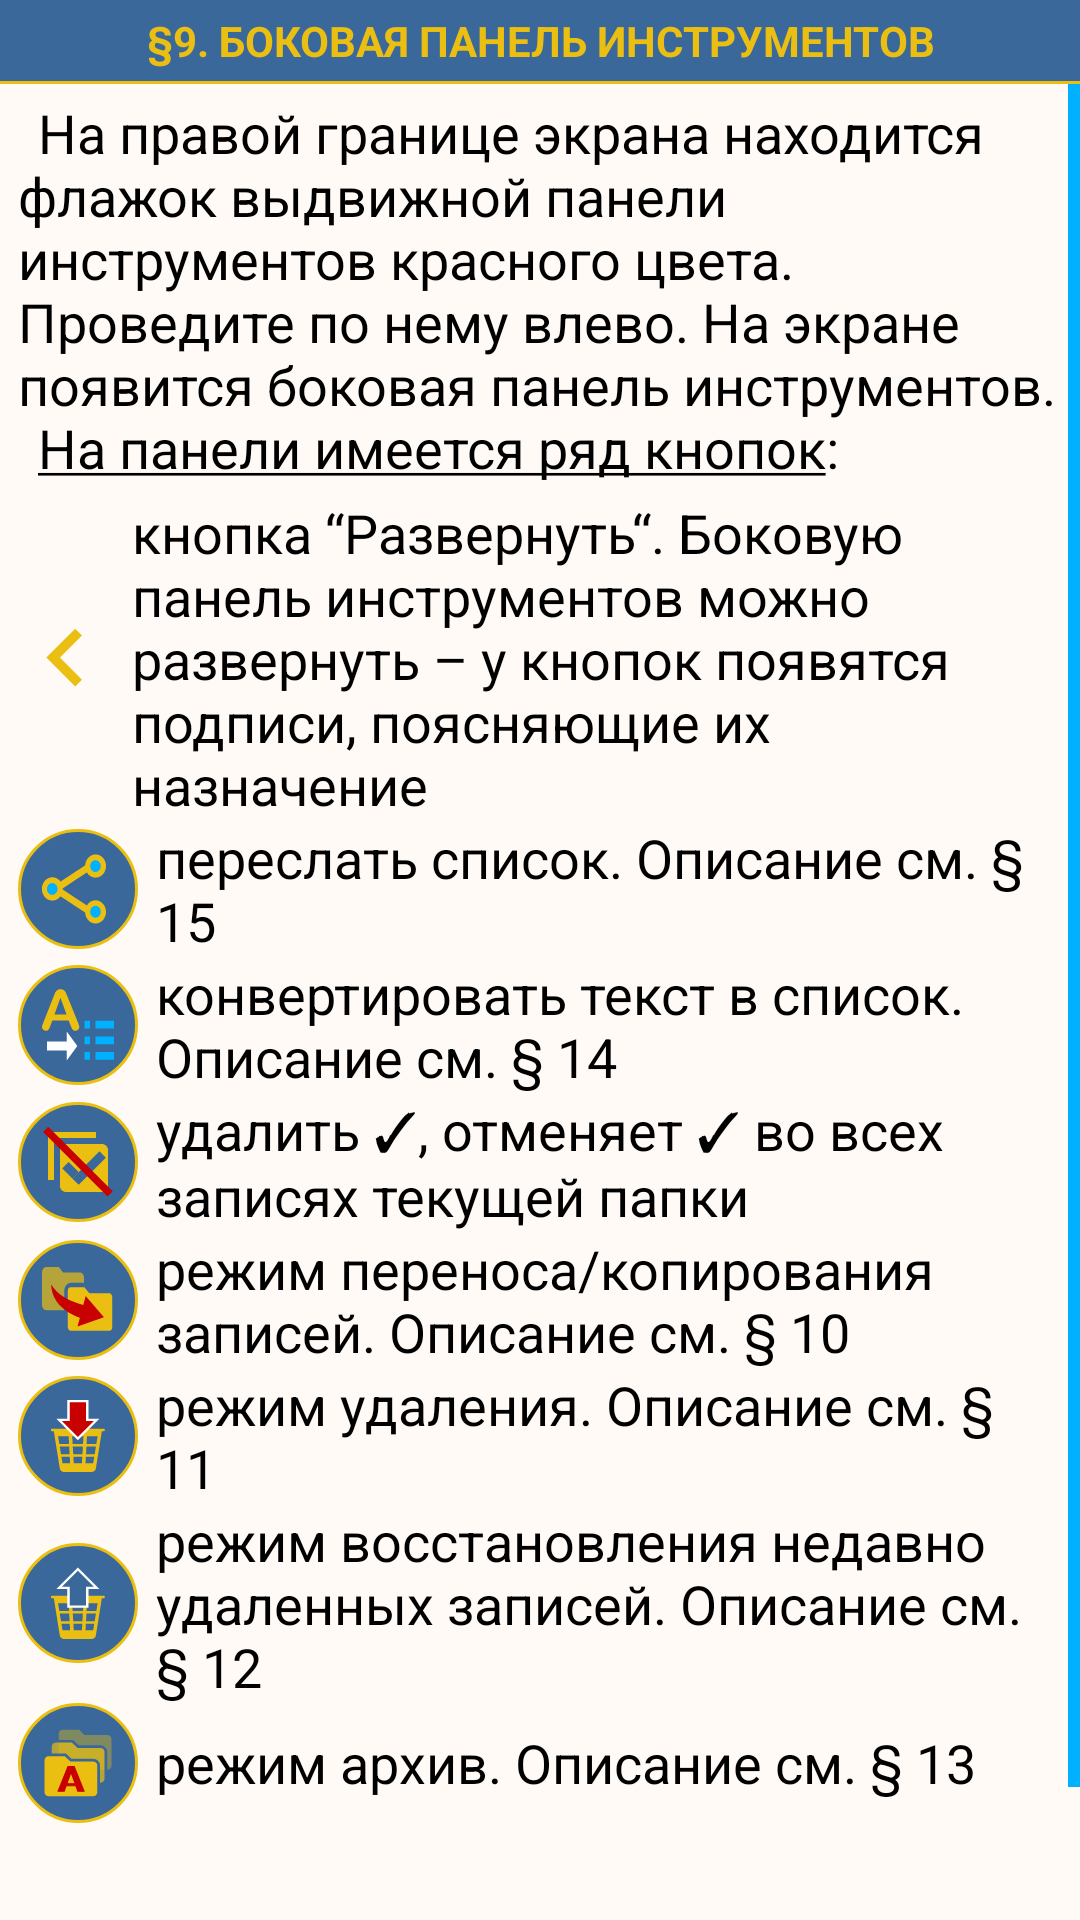

Icon click points for this 1080×1920 phone screenshot, format [x,y]:
archive mode: [78,1763]
convert text: [78,1025]
del mark: [78,1162]
del mode yell: [78,1436]
move mode: [78,1300]
rest mode yell: [78,1603]
send: [78,889]
